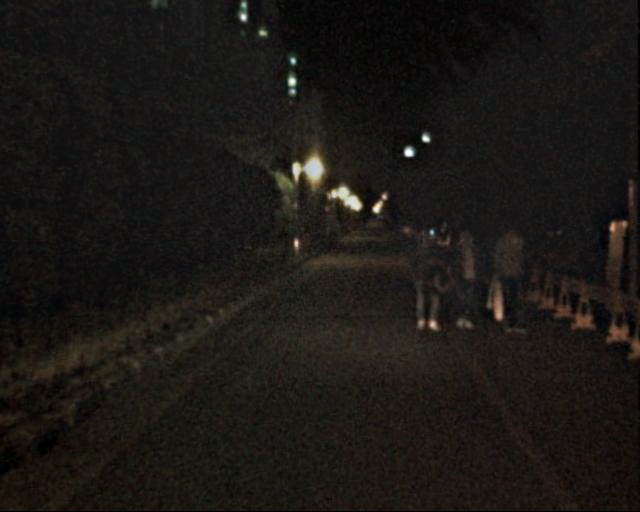person: (488, 224, 534, 337), (441, 227, 484, 332), (401, 229, 444, 334)
